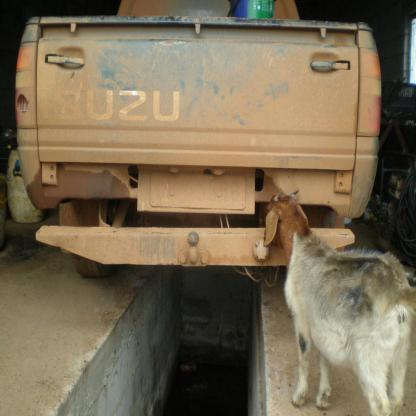car: (13, 7, 368, 239)
